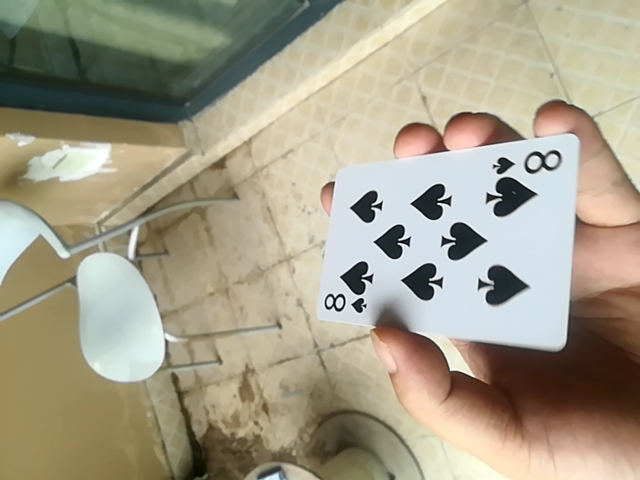ht 8: (310, 126, 588, 351)
